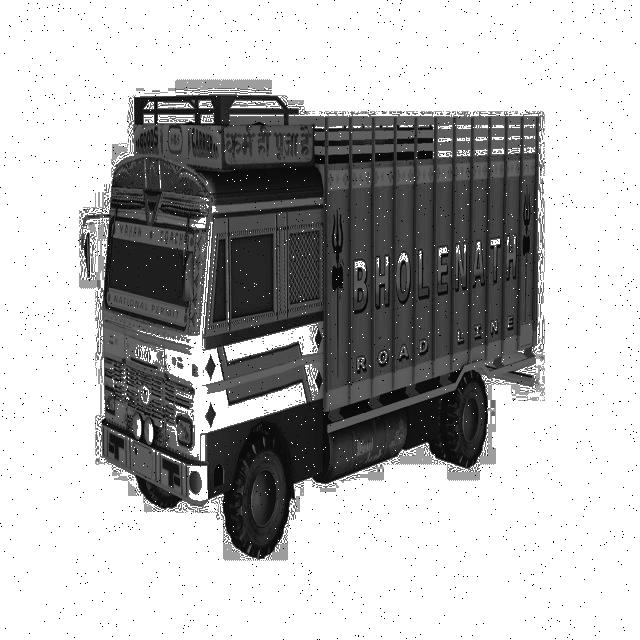HCV: (69, 61, 589, 579)
